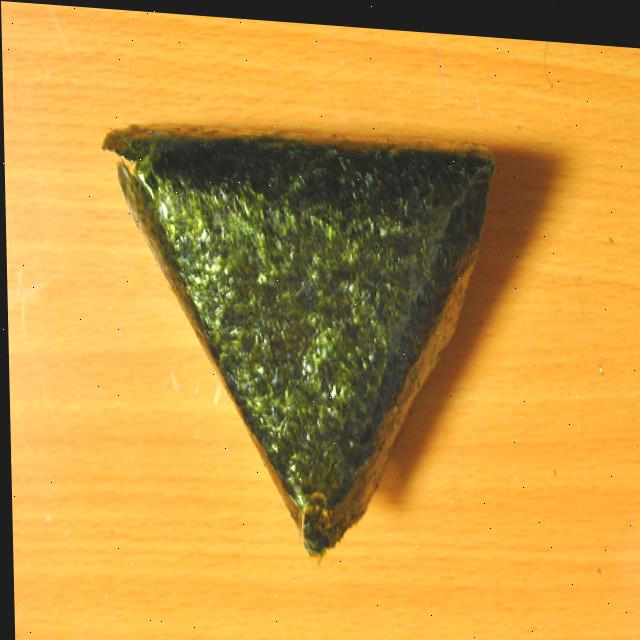米饭主食: (88, 104, 510, 576)
